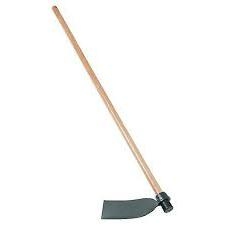HOUE: (0, 5, 179, 225)
